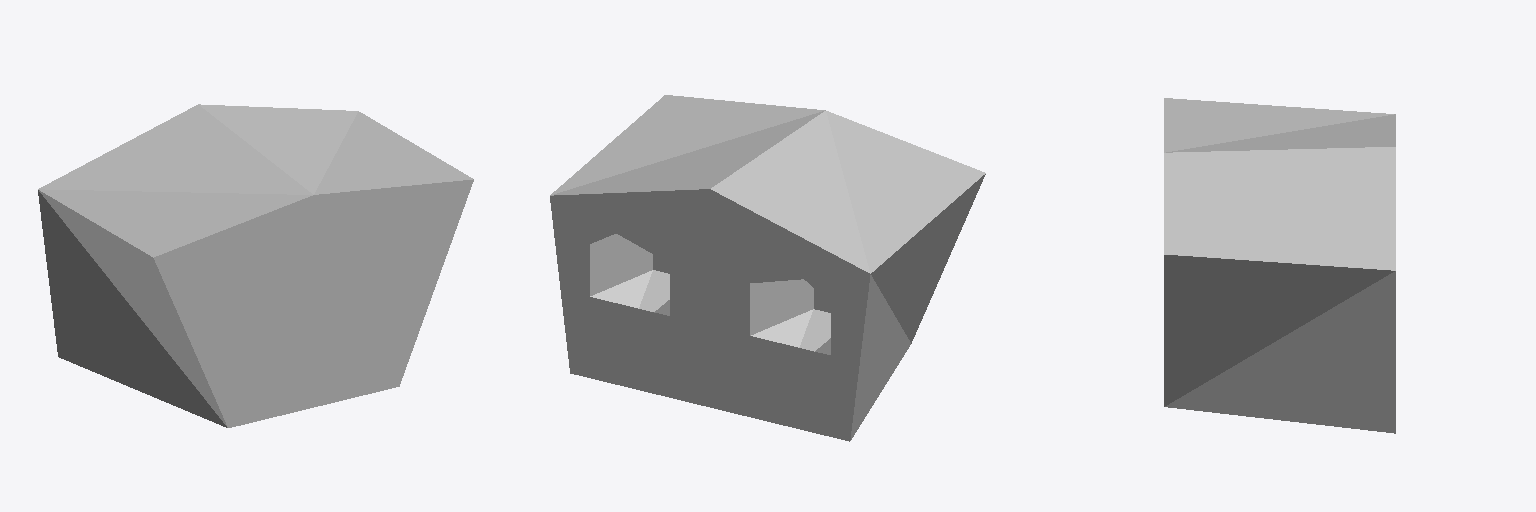
Rendered from skull.obj.
3 renders of one model, left to right at view 1: azimuth 30°, elevation 25°; view 2: azimuth 150°, elevation 25°; view 3: azimuth 270°, elevation 25°, orthographic.
Visible parts, largest first — view 1: Cube; view 2: Cube; view 3: Cube.
Boxes of the visible parts, box(x1,y1,x2,y2) form: Cube: box(38, 104, 473, 427); Cube: box(550, 95, 985, 441); Cube: box(1164, 98, 1395, 433).
Bounding box in the file's own units: 3.2 × 2.08 × 2.